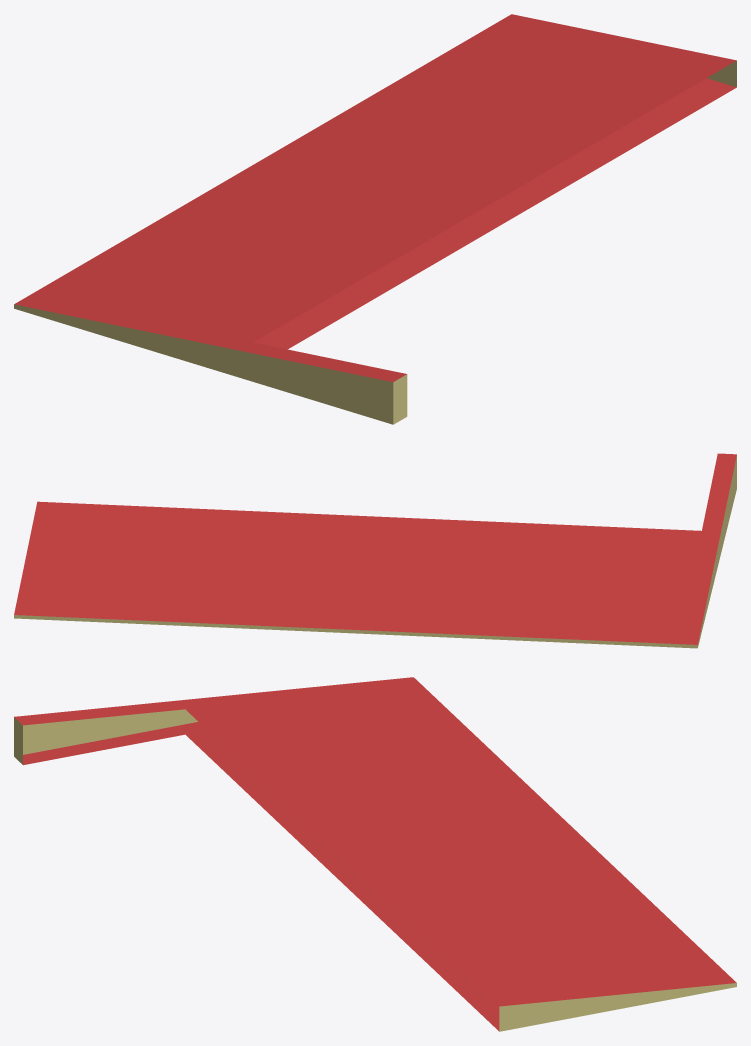
3 renders of one model, top to bottom at view 1: azimuth 30°, elevation 25°; view 2: azimuth 150°, elevation 25°; view 3: azimuth 270°, elevation 25°, orthographic. The views are drawn at different scales.
Size of the model in its own units: 18.6 by 16.21 by 0.985.
